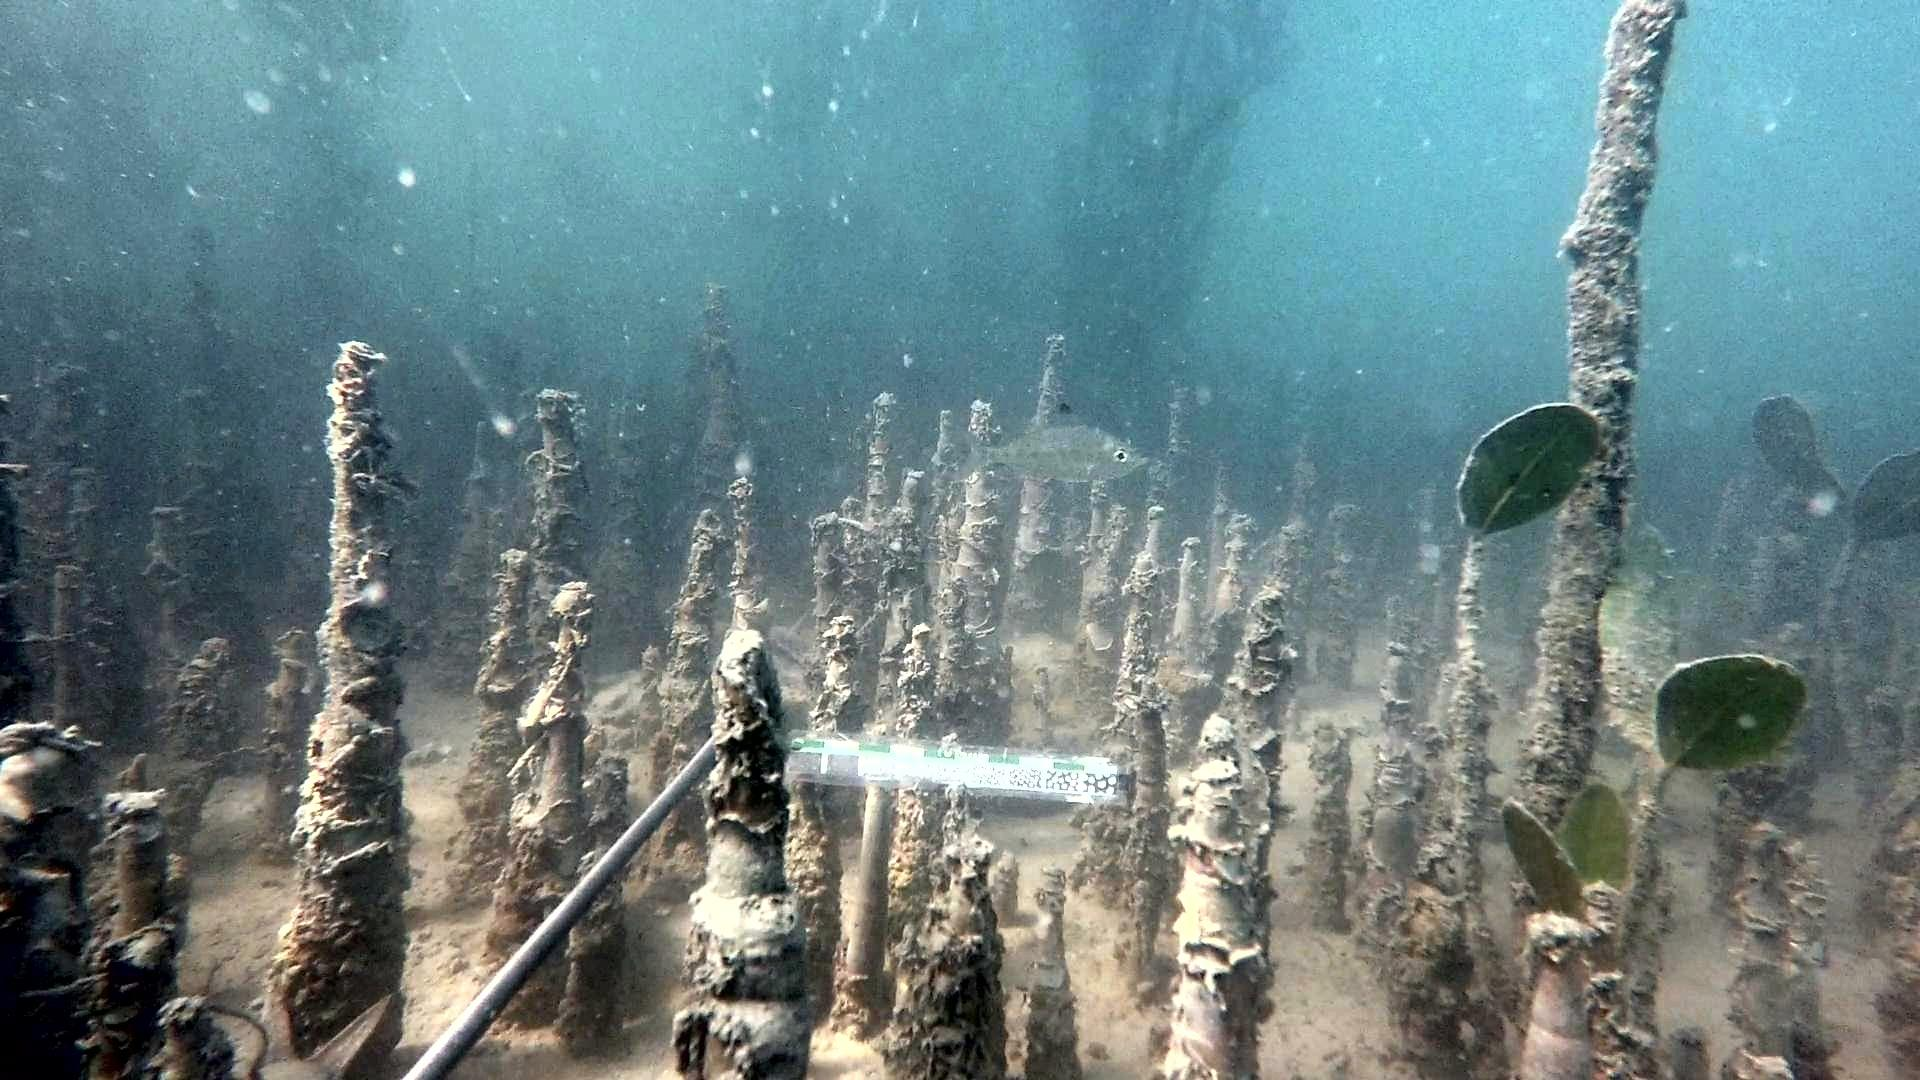gerres: (971, 401, 1145, 491)
